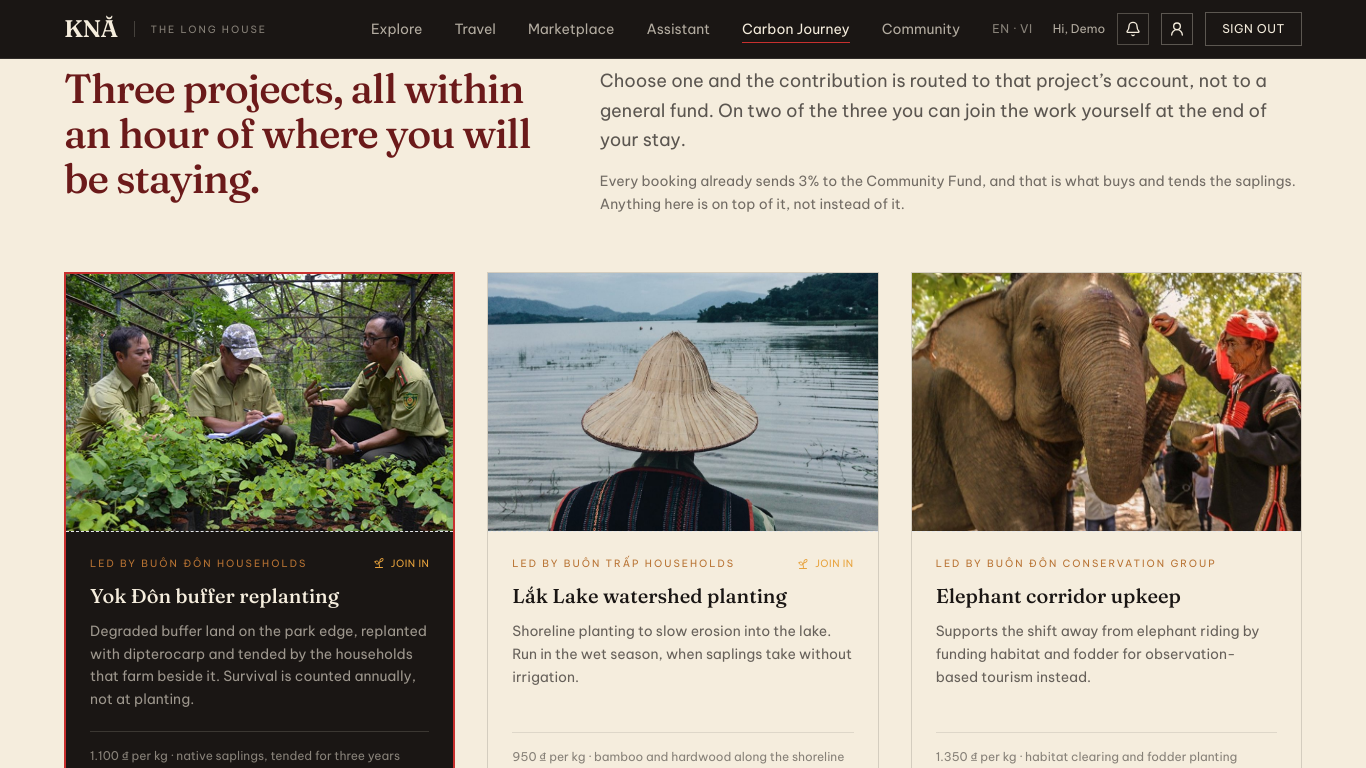
Test case: CarbonTracker offsets › choosing how to take part › gives the corridor no choice at all, since it runs no sessions
The width and height of the screenshot is (1366, 768).
(page scrolled)
What coordinates should you click on to do the following:
click the heading "Elephant corridor upkeep"
I would click on:
 (1058, 596)
Its box is [936, 583, 1181, 608].
(page scrolled)
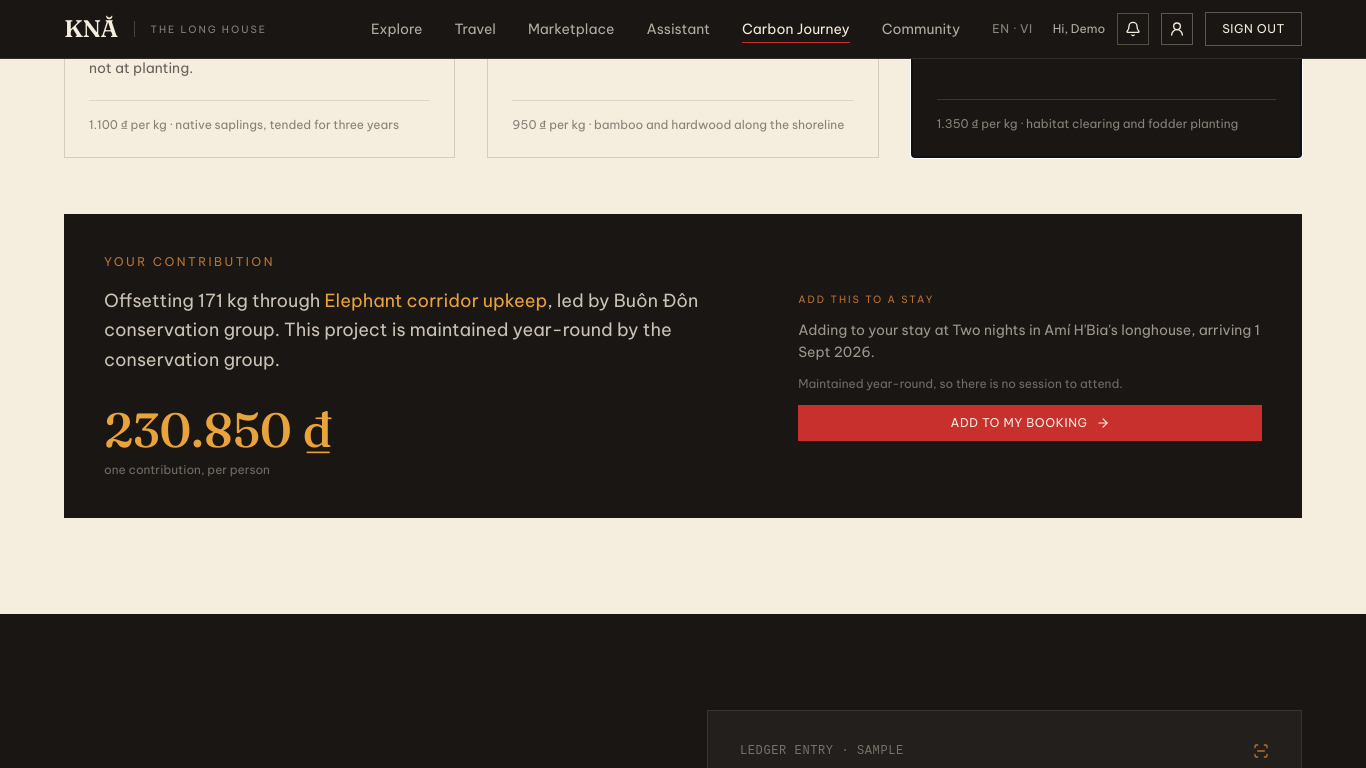
Expected: the text "Maintained year-round, so there is no session to attend." is shown, [798, 376, 1123, 391]
